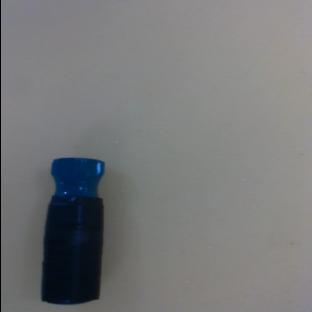part_2_bad: (41, 156, 105, 306)
